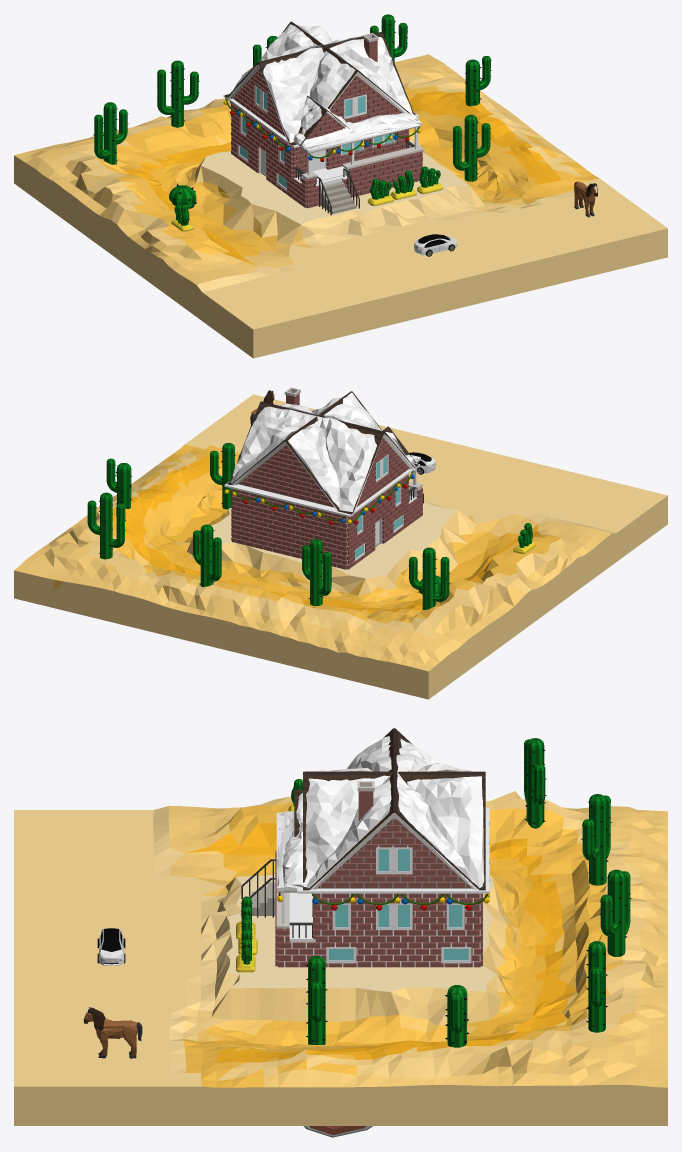
3 views of the same model, one above another, from view 1: azimuth 30°, elevation 25°; view 2: azimuth 150°, elevation 25°; view 3: azimuth 270°, elevation 25° (orthographic). The views are drawn at different scales.
Parts seen in each view (by area): view 1: Cube.001, Cube.1419, Cylinder.037, Cylinder.044, Cylinder.045, Cylinder.038, Cylinder.042, VEHICLES_TESLA, ANIMAL_CABALLO, Cylinder.039, Cylinder.041, Sphere.023; view 2: Cube.001, Cube.1419, Cylinder.042, Cylinder.045, Cylinder.044, Cylinder.043, Cylinder.037, Cylinder.038; view 3: Cube.001, Cube.1419, Cylinder.043, Cylinder.044, Cylinder.045, Cylinder.042, Cylinder.037, ANIMAL_CABALLO, Cylinder.038, VEHICLES_TESLA, Cylinder.041.
Part boxes in pixels (bbox=[...]): Cube.001: bbox=[14, 54, 667, 358]; Cube.1419: bbox=[223, 21, 424, 215]; Cylinder.037: bbox=[452, 114, 490, 181]; Cylinder.044: bbox=[157, 60, 199, 127]; Cylinder.045: bbox=[93, 102, 128, 164]; Cylinder.038: bbox=[465, 56, 491, 106]; Cylinder.042: bbox=[370, 14, 407, 62]; VEHICLES_TESLA: bbox=[414, 234, 457, 256]; ANIMAL_CABALLO: bbox=[574, 181, 597, 217]; Cylinder.039: bbox=[367, 178, 394, 205]; Cylinder.041: bbox=[417, 166, 443, 194]; Sphere.023: bbox=[169, 184, 196, 208]; Cube.001: bbox=[14, 394, 667, 699]; Cube.1419: bbox=[224, 387, 423, 569]; Cylinder.042: bbox=[87, 492, 125, 559]; Cylinder.045: bbox=[408, 547, 450, 609]; Cylinder.044: bbox=[302, 539, 331, 605]; Cylinder.043: bbox=[192, 524, 221, 586]; Cylinder.037: bbox=[210, 443, 239, 509]; Cylinder.038: bbox=[106, 458, 131, 508]; Cube.001: bbox=[14, 791, 667, 1125]; Cube.1419: bbox=[241, 728, 489, 967]; Cylinder.043: bbox=[599, 869, 631, 956]; Cylinder.044: bbox=[581, 794, 611, 885]; Cylinder.045: bbox=[524, 738, 546, 828]; Cylinder.042: bbox=[586, 941, 607, 1032]; Cylinder.037: bbox=[306, 956, 327, 1044]; ANIMAL_CABALLO: bbox=[83, 1007, 142, 1058]; Cylinder.038: bbox=[445, 985, 469, 1047]; VEHICLES_TESLA: bbox=[97, 928, 125, 965]; Cylinder.041: bbox=[236, 929, 255, 972].
Size of the model in its own units: 4002 by 2343 by 4001.
Materials: 39 (2 with a texture image).
